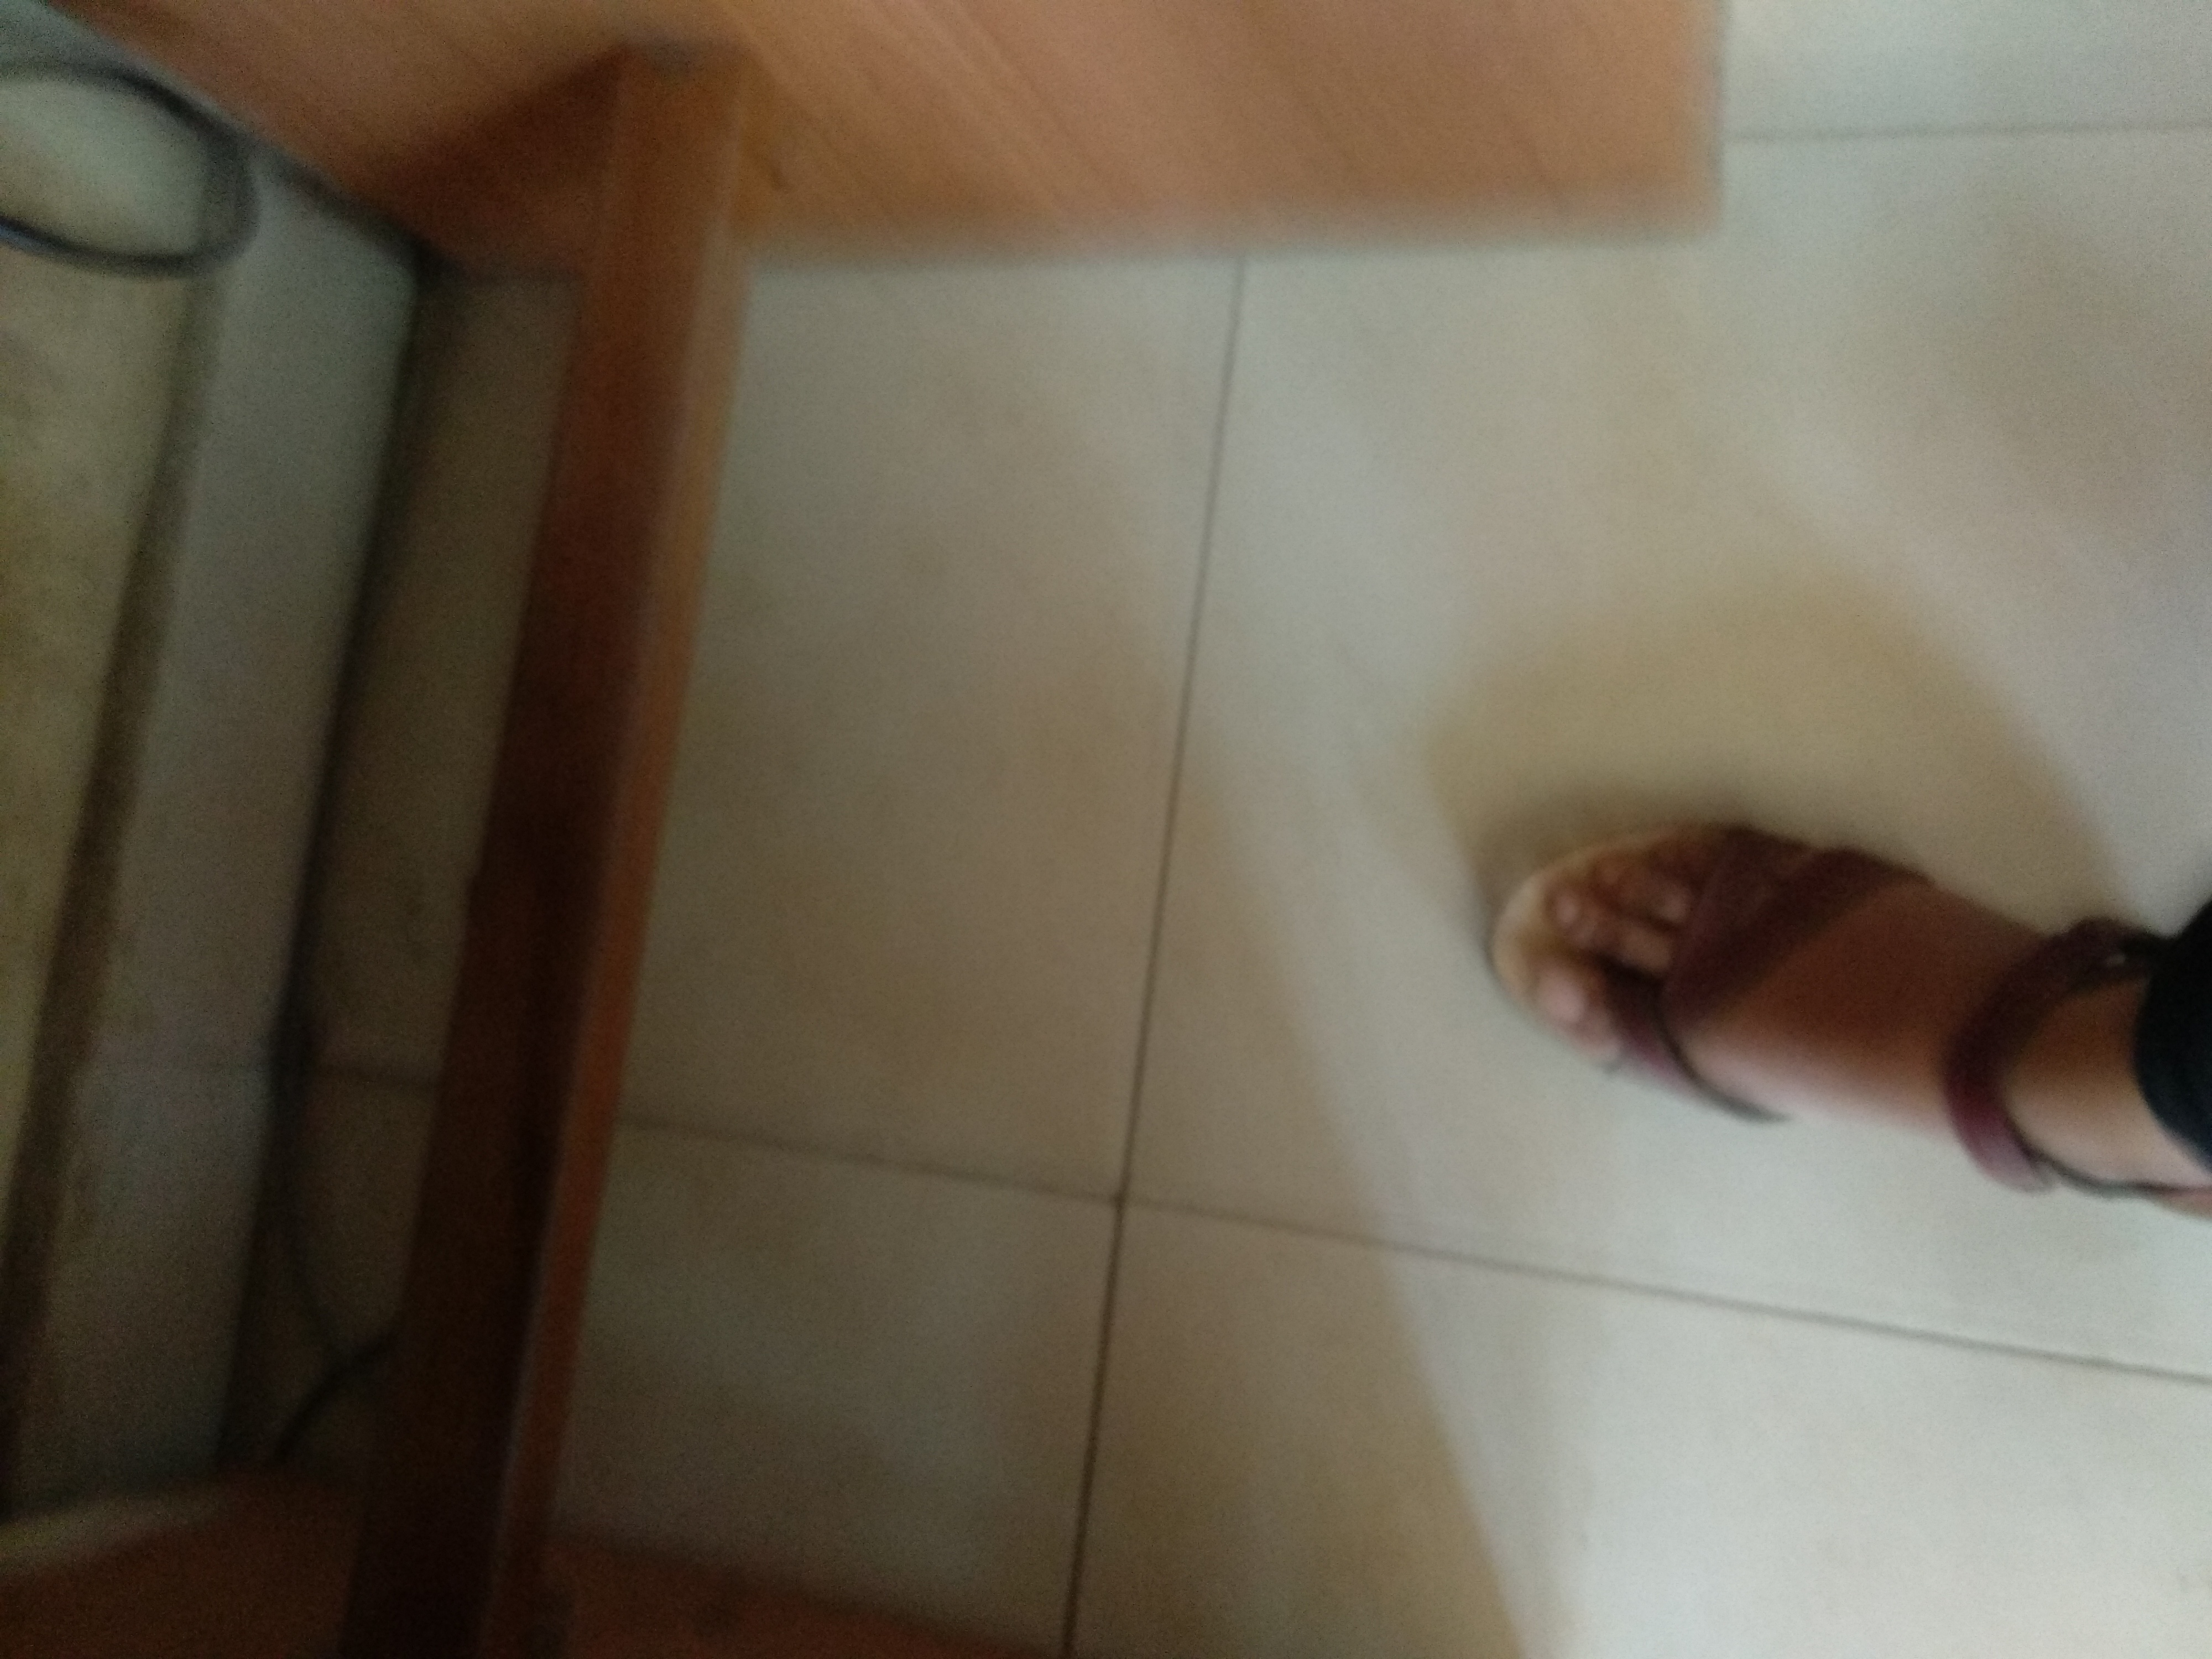feet: (1414, 751, 2191, 1218)
